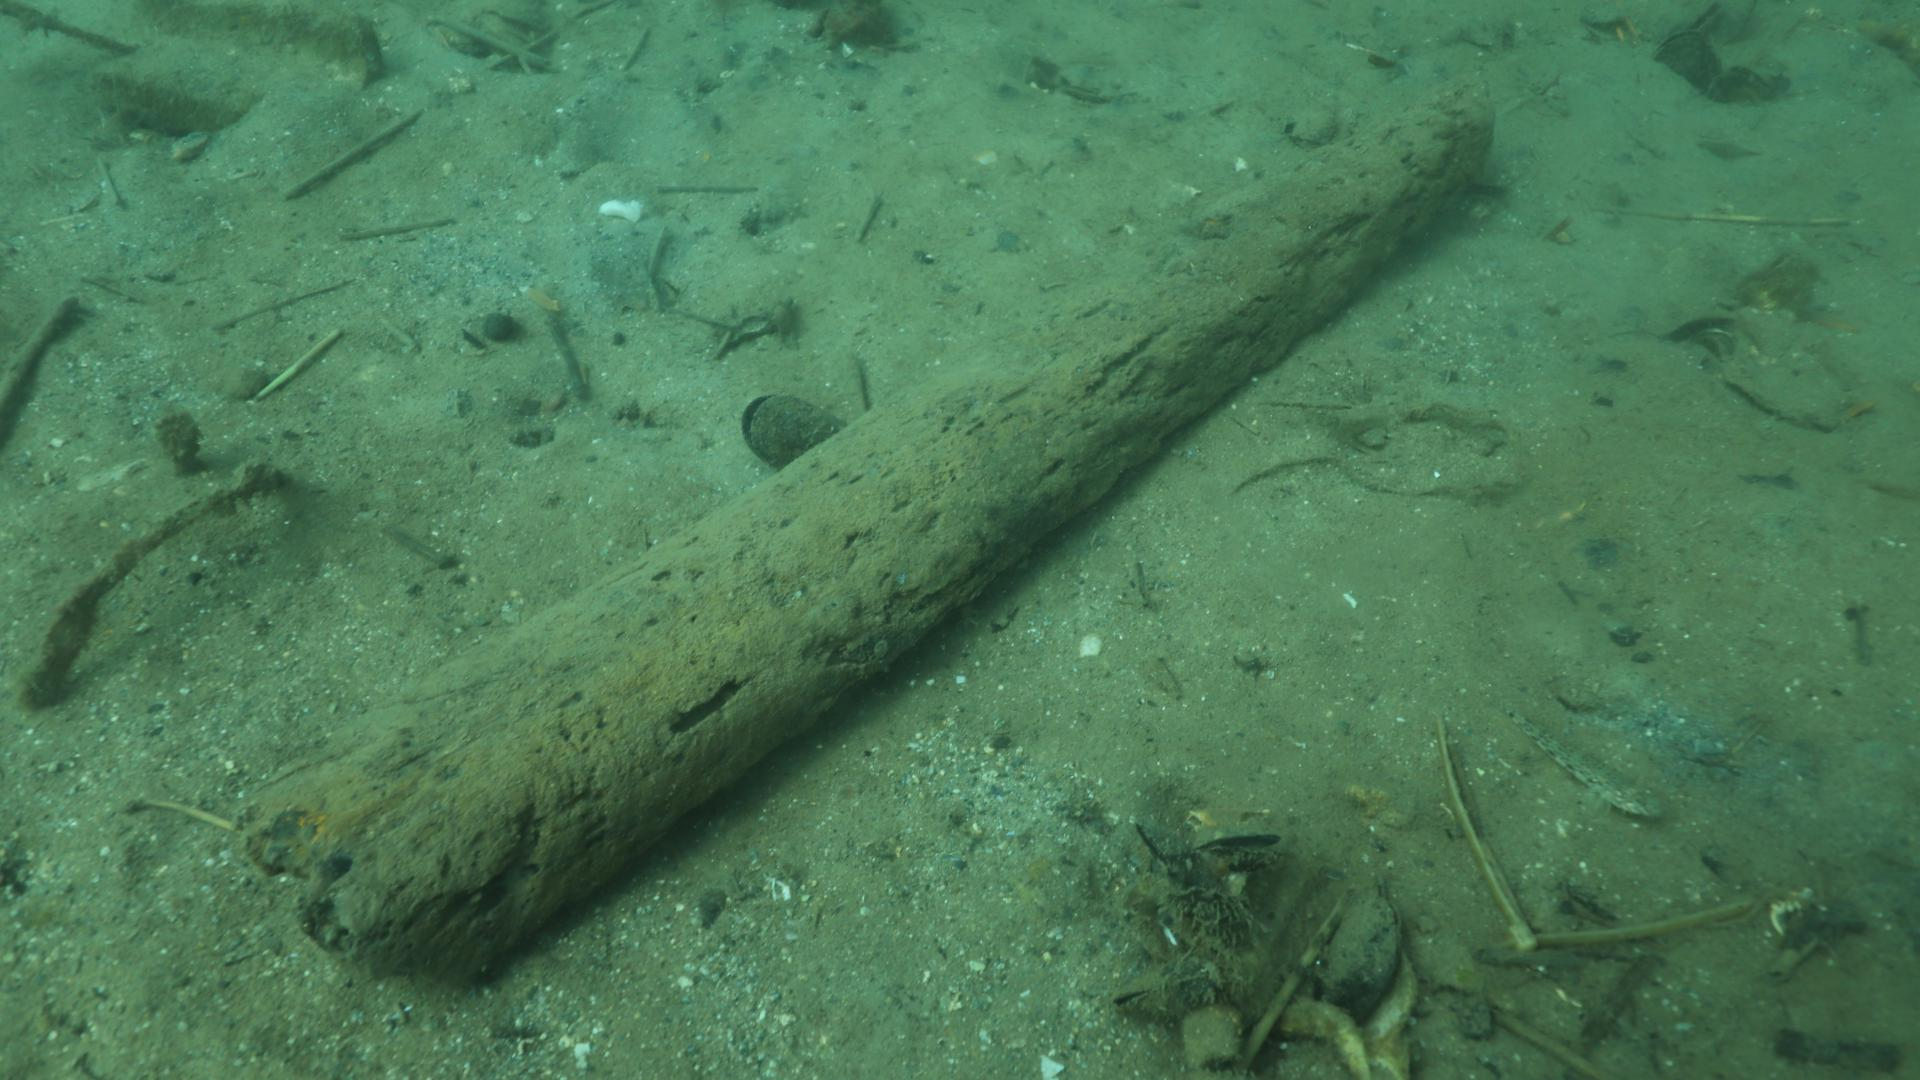wood: (233, 75, 1497, 982)
